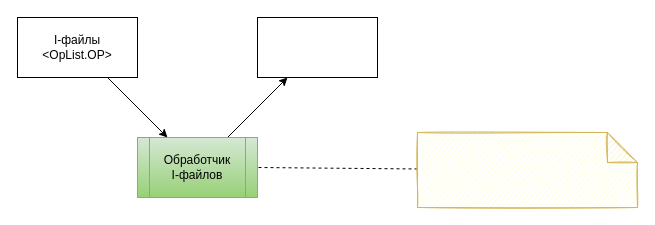
This 655x225 diagram has some shape labels left out. Each missing label, with the centre of its shape:
"F-файлы FlkP.Pr" goes at (x=317, y=47).
"Каждые 5 минут Проверка ФЛК Конвертация OpList.OP в rsup.Op" goes at (x=527, y=170).
